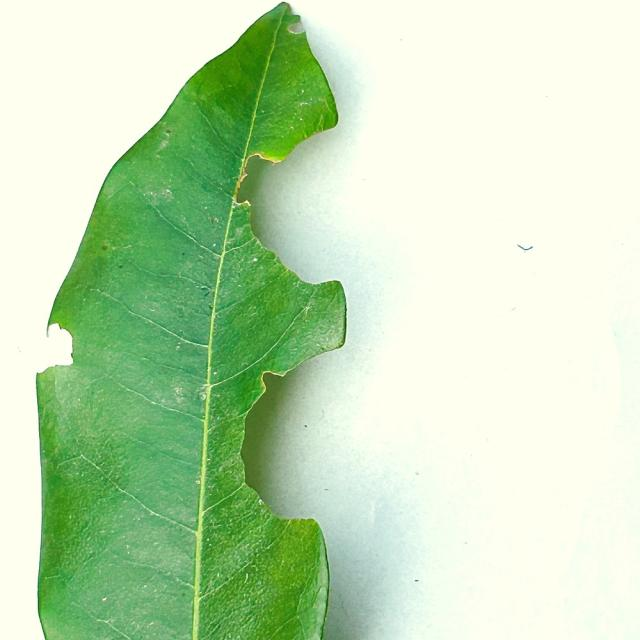Deficiency Leaf: (250, 0, 416, 639), (31, 321, 75, 376)
Lychee: (33, 3, 348, 639)
